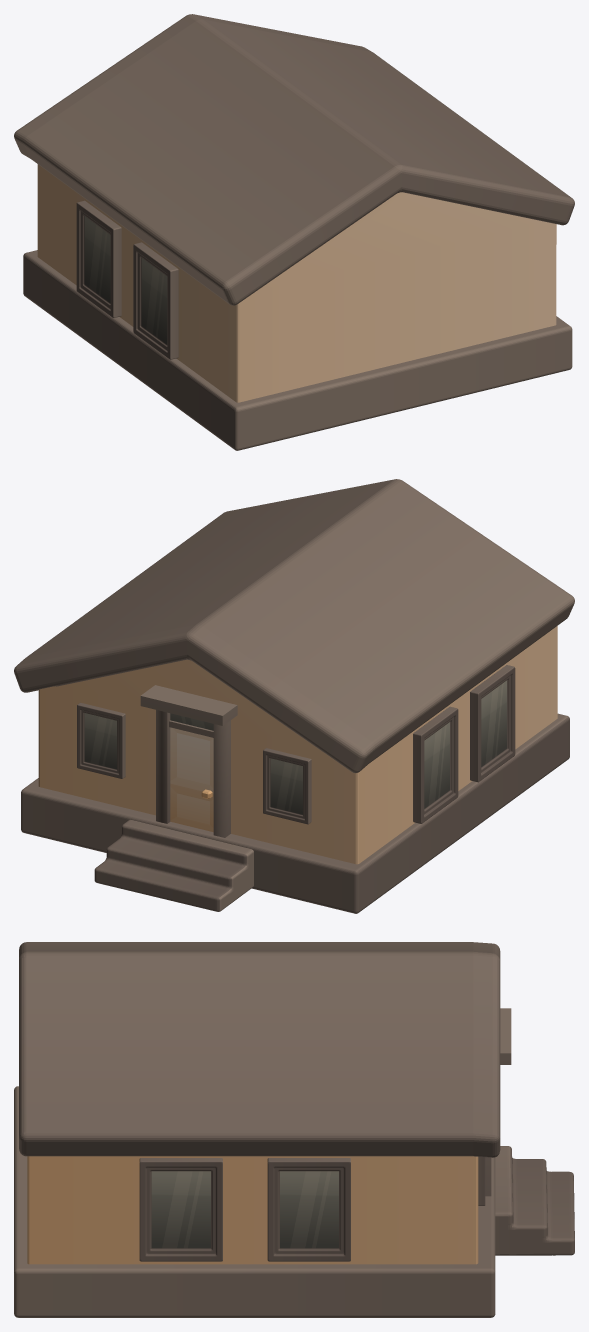
File: CASA GRIS.fbx
3 renders of one model, top to bottom at view 1: azimuth 30°, elevation 25°; view 2: azimuth 150°, elevation 25°; view 3: azimuth 270°, elevation 25°, orthographic. The views are drawn at different scales.
Parts seen in each view (by area): view 1: edificio 6.019; view 2: edificio 6.019; view 3: edificio 6.019.
Part boxes in pixels (box(x1,y1,x2,y2)): edificio 6.019: box(14, 14, 574, 450); edificio 6.019: box(14, 479, 574, 913); edificio 6.019: box(14, 942, 574, 1317).
Size of the model in its own units: 1073 by 1317 by 707.
2 materials, 2 textured.
